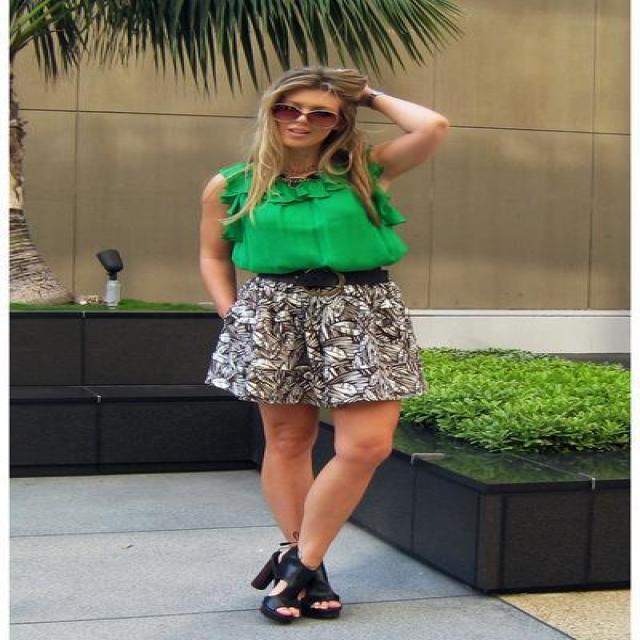shirt: (219, 171, 405, 271)
shoe: (235, 545, 344, 625)
skirt: (204, 282, 426, 411)
sunglass: (269, 90, 312, 122)
